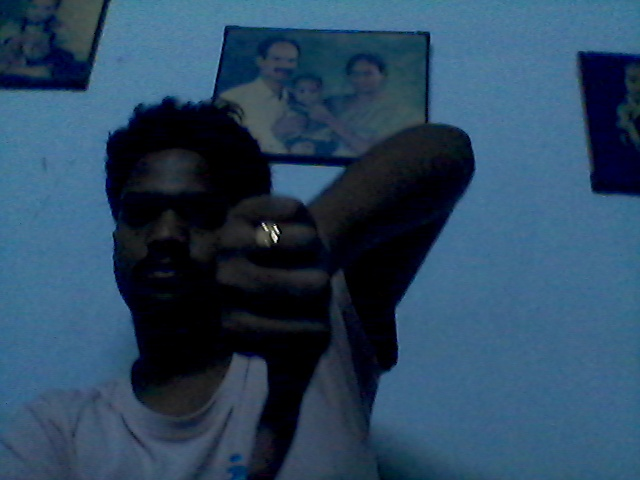Please: (210, 191, 337, 480)
